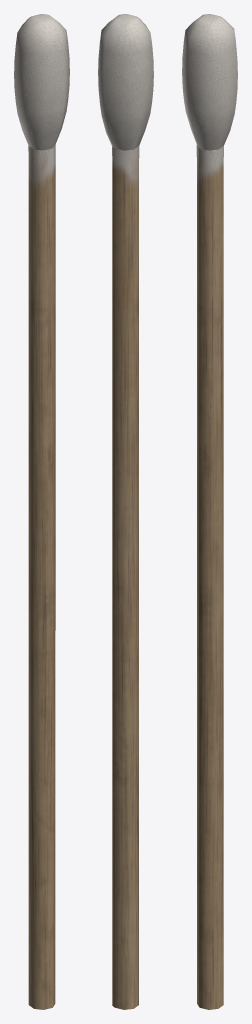
File: 无菌棉签.glb
3 renders of one model, left to right at view 1: azimuth 30°, elevation 25°; view 2: azimuth 150°, elevation 25°; view 3: azimuth 330°, elevation 25°, orthographic.
Parts seen in each view (by area): view 1: 棉签; view 2: 棉签; view 3: 棉签.
Part boxes in pixels (x1,y1,x2,y2): 棉签: (14,14,69,1009); 棉签: (98,14,153,1009); 棉签: (182,14,237,1009).
Bounding box in the file's own units: 0.00862 × 0.1811 × 0.00862.
1 material, 1 textured.
